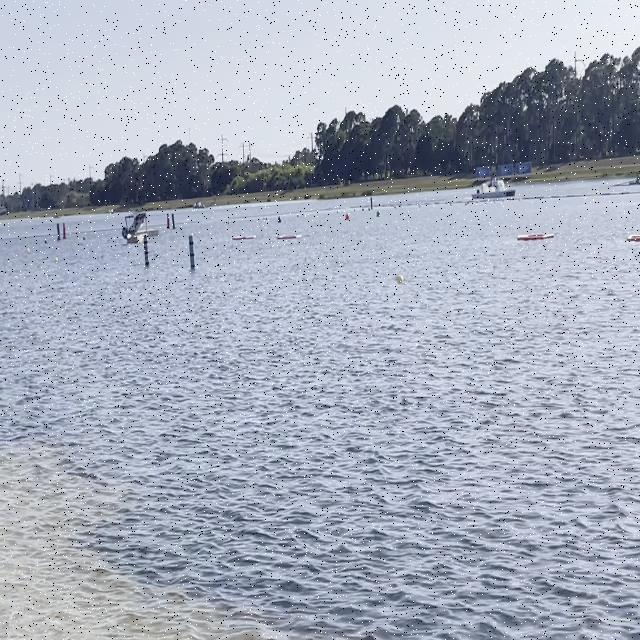buoy: (396, 273, 404, 284), (26, 247, 32, 254), (376, 210, 381, 218), (346, 213, 350, 221), (54, 257, 58, 264)
